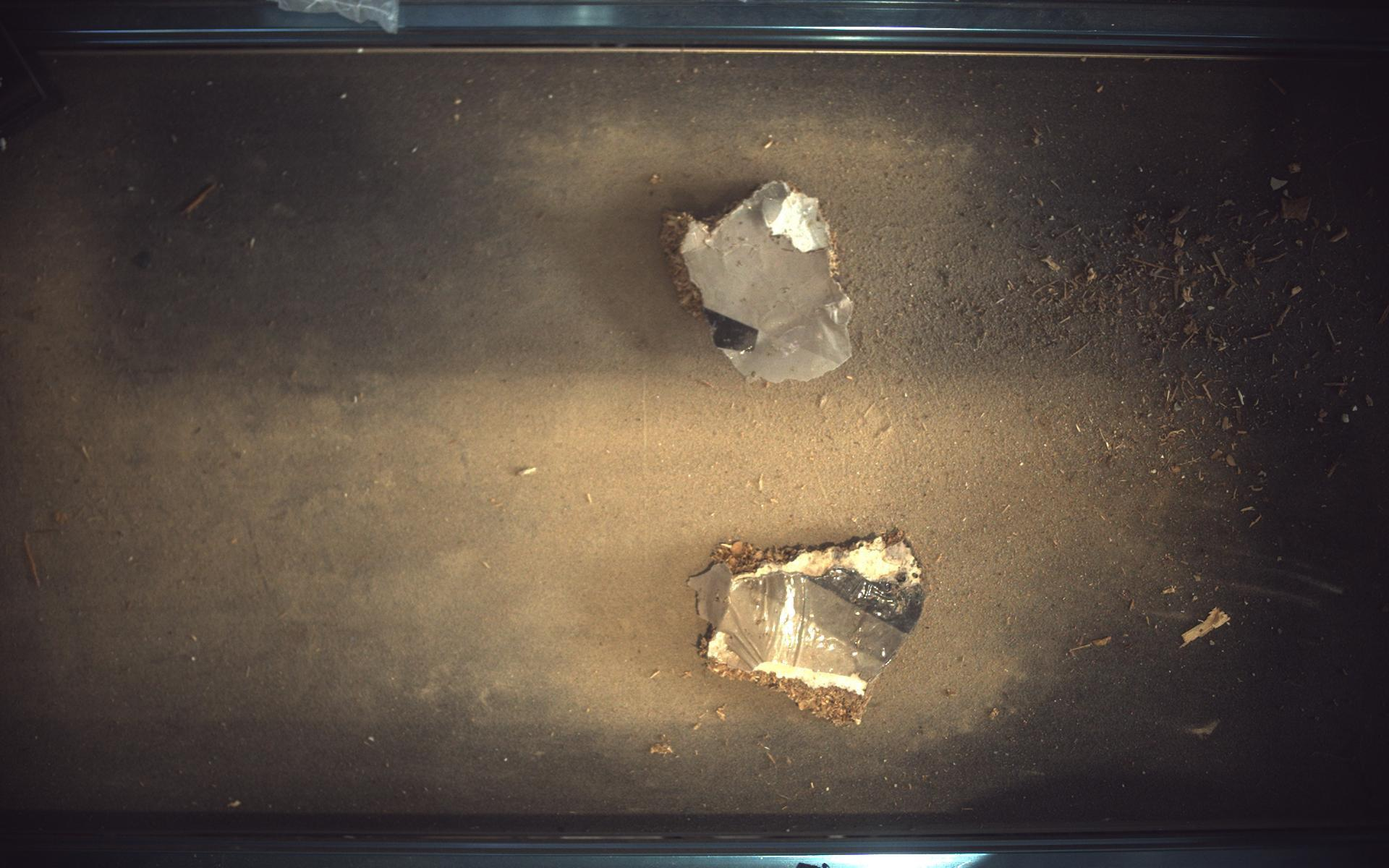wood: (689, 532, 927, 726), (662, 180, 855, 382)
